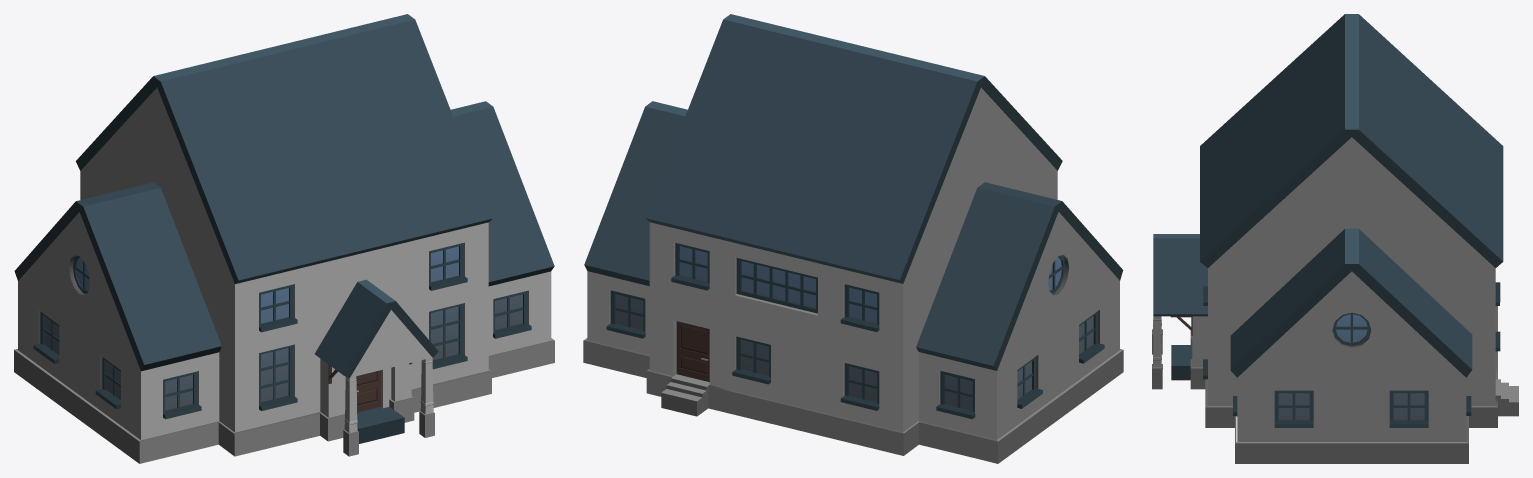
File: Residential_LargeFamilyHome_alt01.glb
3 views of the same model, side by side, from view 1: azimuth 30°, elevation 25°; view 2: azimuth 150°, elevation 25°; view 3: azimuth 270°, elevation 25° (orthographic). The views are drawn at different scales.
Parts seen in each view (by area): view 1: base.118, windowRefl.089; view 2: base.118, windowRefl.089; view 3: base.118, windowRefl.089.
Part boxes in pixels (x1,y1,x2,y2): base.118: [14, 14, 554, 463]; windowRefl.089: [44, 246, 522, 410]; base.118: [583, 14, 1123, 463]; windowRefl.089: [615, 246, 1093, 410]; base.118: [1152, 14, 1518, 463]; windowRefl.089: [1278, 314, 1424, 420].
Bounding box in the file's own units: 17.94 × 13.1 × 14.61.
